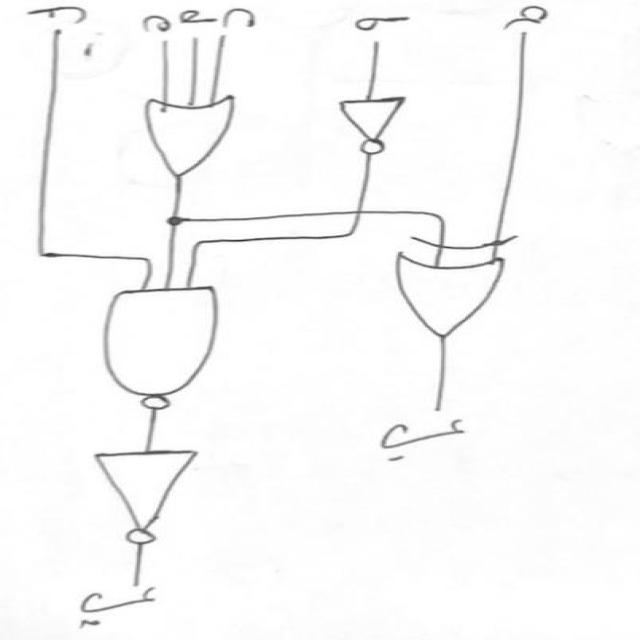NAND: (84, 280, 248, 422)
NOT: (82, 446, 221, 550), (328, 86, 432, 165)
OR: (130, 89, 270, 188)
XOR: (382, 230, 550, 347)
